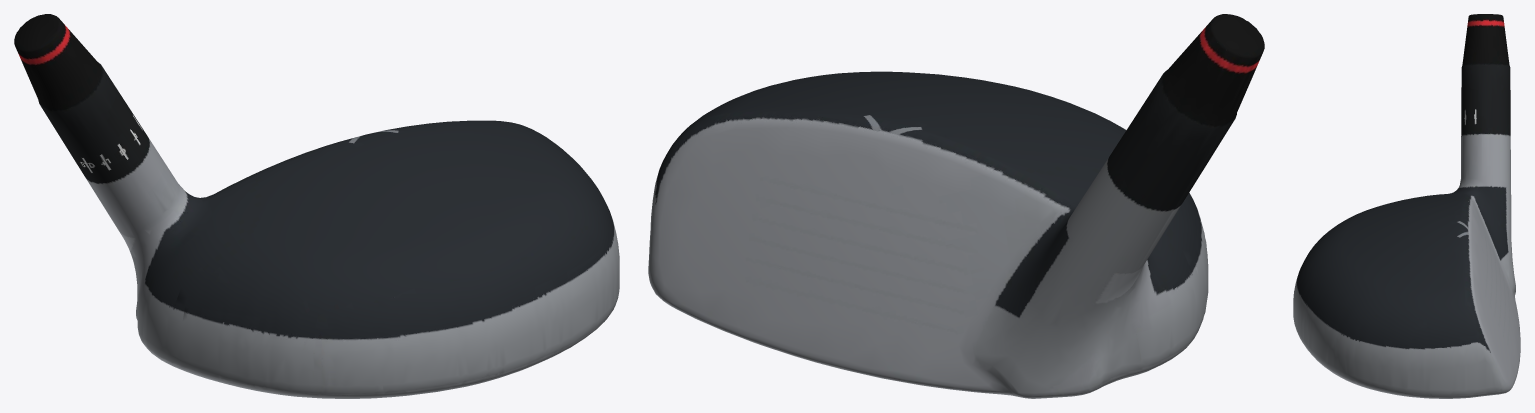
3 renders of one model, left to right at view 1: azimuth 30°, elevation 25°; view 2: azimuth 150°, elevation 25°; view 3: azimuth 270°, elevation 25°, orthographic. The views are drawn at different scales.
Visible parts, largest first — view 1: head; view 2: head; view 3: head.
Boxes of the visible parts, bbox=[...] form: head: bbox=[14, 14, 619, 398]; head: bbox=[648, 14, 1264, 398]; head: bbox=[1293, 14, 1520, 398].
Size of the model in its own units: 0.1151 by 0.0736 by 0.0635.
Materials: 1 (1 with a texture image).
